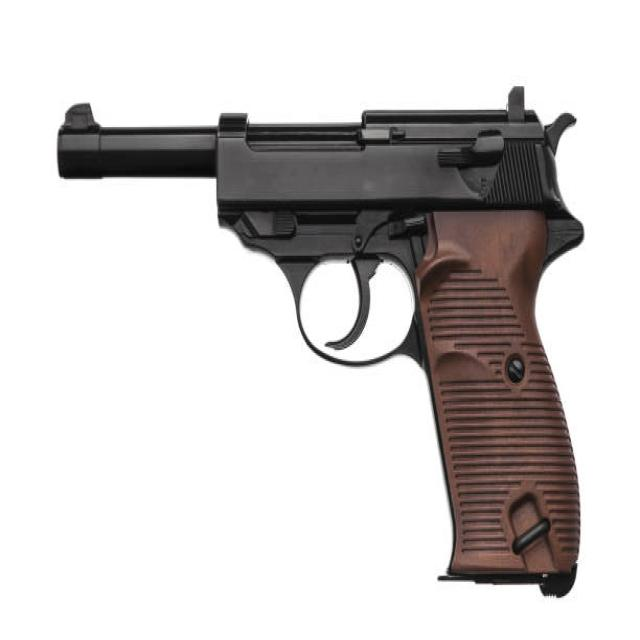pistol: (55, 80, 592, 612)
